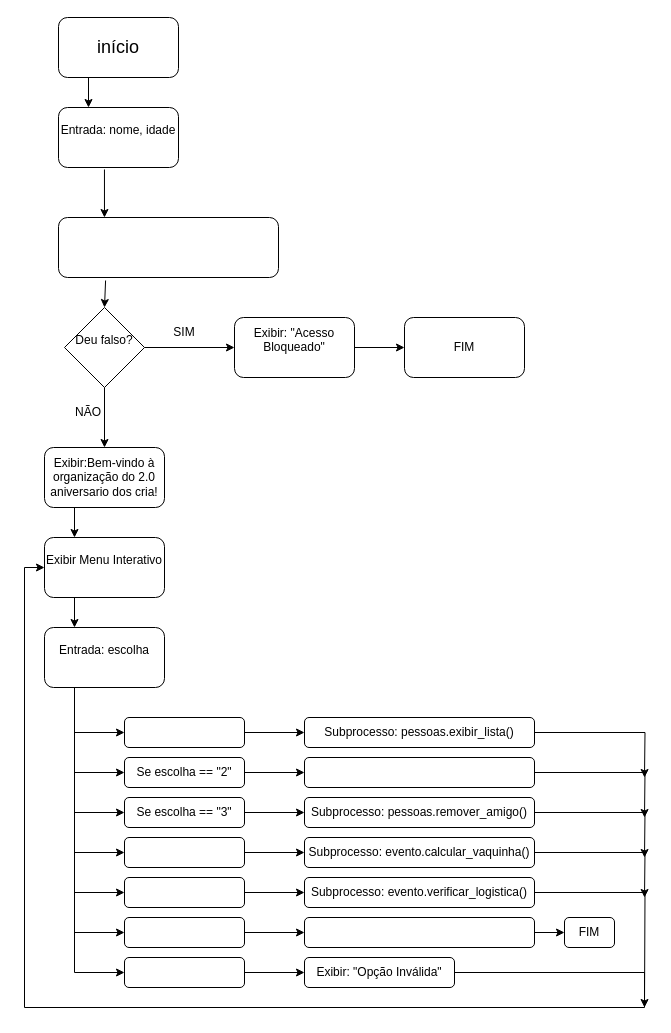
Image size: 671x1033. Some labels were removed from this diagram. Each missing label, with the box of its shape:
Caso contrário: (124, 956, 244, 988)
pessoas.verificar_permissao(nome, idade) ◄── (Chama a função): (58, 216, 278, 278)
Se escolha == "0": (124, 916, 244, 948)
Se escolha == "1": (124, 716, 244, 748)
Se escolha == "4": (124, 836, 244, 868)
Se escolha == "5": (124, 876, 244, 908)
Subprocesso: evento.exibir_relatorio_final(): (304, 916, 534, 948)
Subprocesso: pessoas.adicionar_amigo(): (304, 756, 534, 788)
